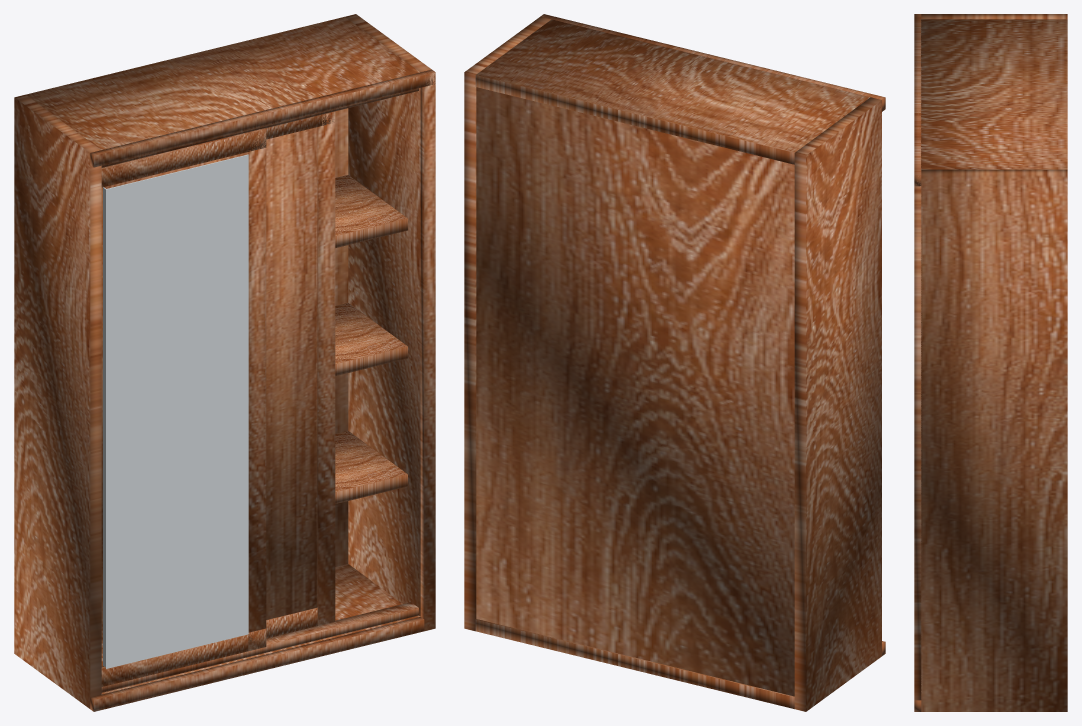
The model's file is lemarisleding.glb.
3 renders of one model, left to right at view 1: azimuth 30°, elevation 25°; view 2: azimuth 150°, elevation 25°; view 3: azimuth 270°, elevation 25°, orthographic. The views are drawn at different scales.
Parts seen in each view (by area): view 1: MIRROR GLASS, Frame_Side_L, Frame_Side_R, Sliding_Door_Panel.001, Frame_Top, Door_Frame_R.001, Door_Frame_R, Front_Fascia_R, Front_Fascia_Top, Front_Fascia_Bot, Back_Panel, Shelf_1 (+9 smaller); view 2: Back_Panel, Frame_Side_L, Frame_Top, Frame_Side_R, Frame_Bottom, Front_Fascia_Top; view 3: Frame_Side_R, Frame_Top, Front_Fascia_R, Front_Fascia_Top, Frame_Side_L.
Part boxes in pixels (box(x1,y1,x2,y2)): MIRROR GLASS: box(103, 154, 248, 668); Frame_Side_L: box(14, 94, 101, 708); Frame_Side_R: box(345, 14, 431, 616); Sliding_Door_Panel.001: box(266, 127, 317, 619); Frame_Top: box(26, 17, 419, 149); Door_Frame_R.001: box(317, 111, 335, 625); Door_Frame_R: box(247, 128, 266, 651); Front_Fascia_R: box(420, 72, 435, 630); Front_Fascia_Top: box(90, 69, 435, 167); Front_Fascia_Bot: box(90, 617, 428, 711); Back_Panel: box(101, 108, 348, 623); Shelf_1: box(335, 431, 407, 503); Back_Panel: box(476, 87, 794, 696); Frame_Side_L: box(794, 97, 881, 711); Frame_Top: box(475, 19, 869, 164); Frame_Side_R: box(464, 16, 551, 631); Frame_Bottom: box(475, 619, 794, 708); Front_Fascia_Top: box(540, 14, 885, 111); Frame_Side_R: box(921, 169, 1067, 711); Frame_Top: box(921, 19, 1067, 169); Front_Fascia_R: box(914, 176, 921, 700); Front_Fascia_Top: box(914, 14, 921, 186); Frame_Side_L: box(921, 14, 1067, 19).
Bounding box in the file's own units: 1.35 × 2.1 × 0.5445.
Materials: 3 (2 with a texture image).
